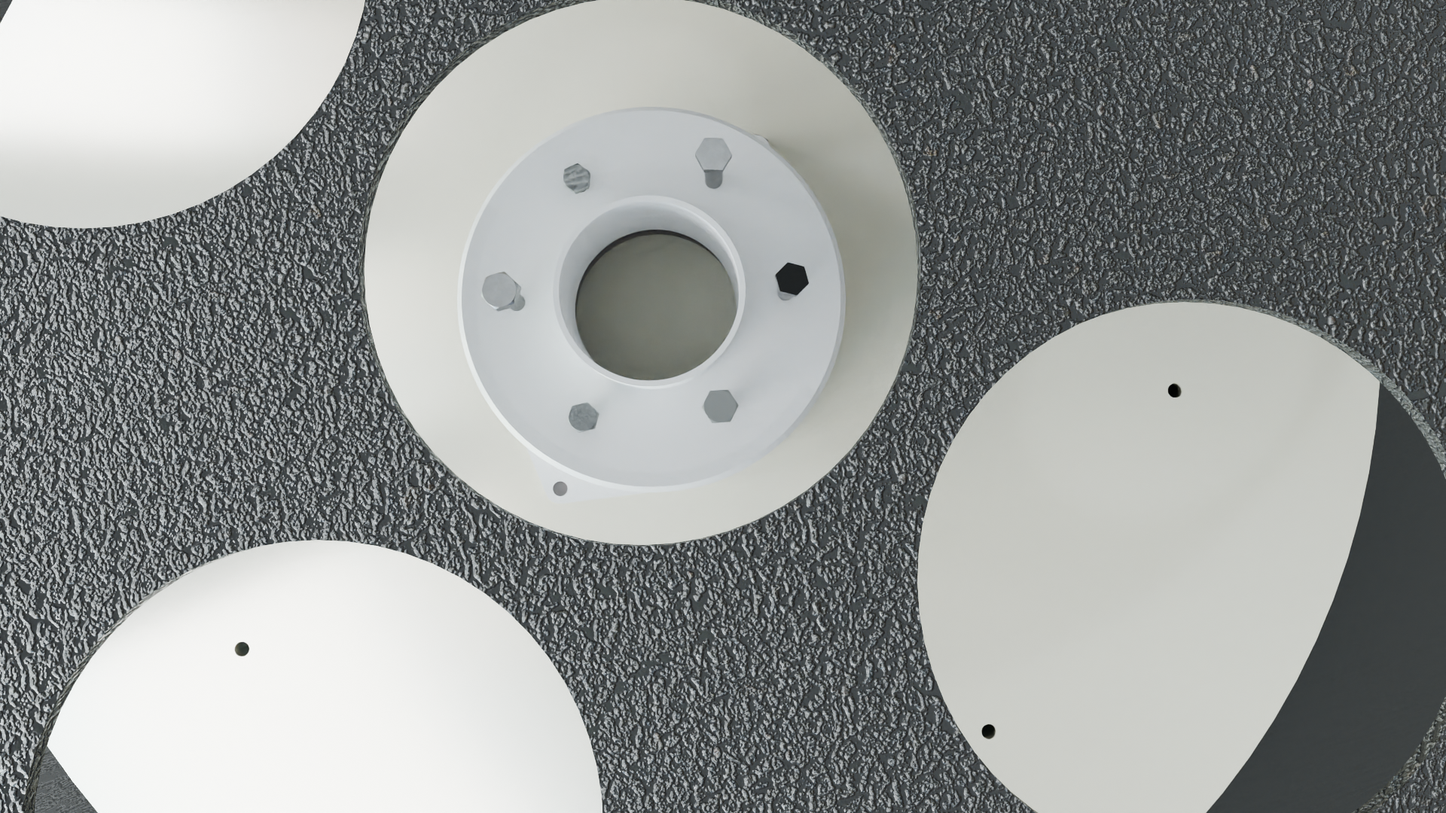bolt: (481, 272, 519, 309), (702, 390, 739, 423), (695, 138, 732, 170), (776, 263, 809, 296), (568, 402, 598, 432), (563, 163, 590, 192)
